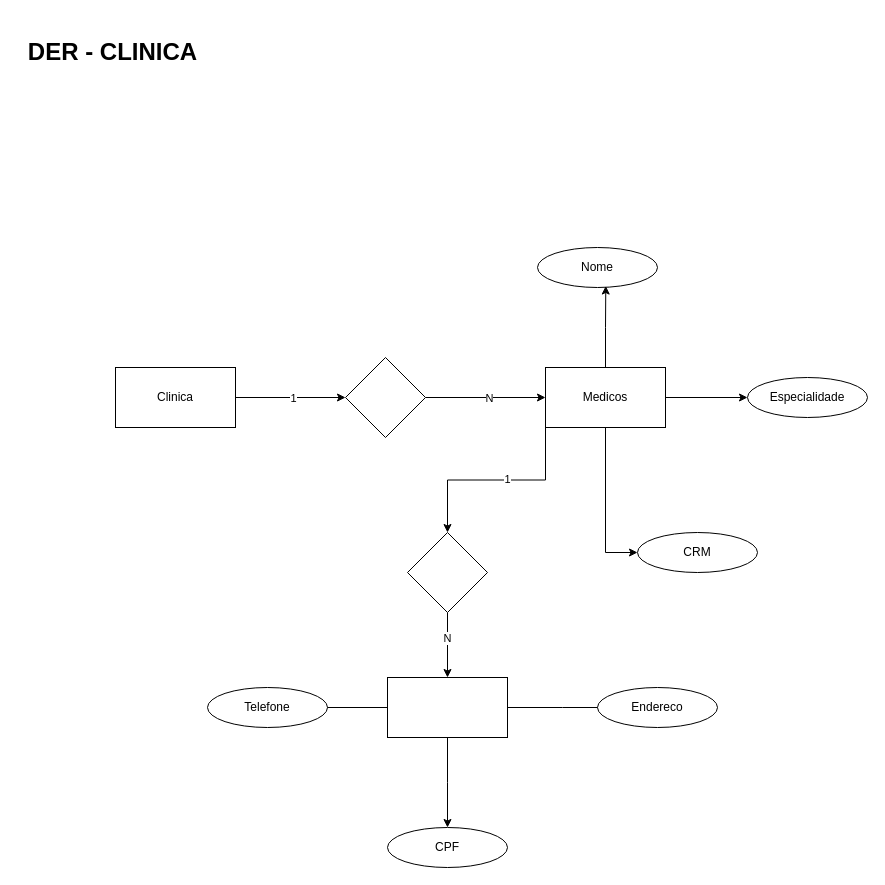
This 885x885 diagram has some shape labels left out. The shapes that lost their labels are listed below. From the top down, each one's centre as x and y in pixels, then its label:
At pixel 385 397: "CONTEM".
At pixel 447 572: "Tratam".
At pixel 447 707: "Pacientes".
